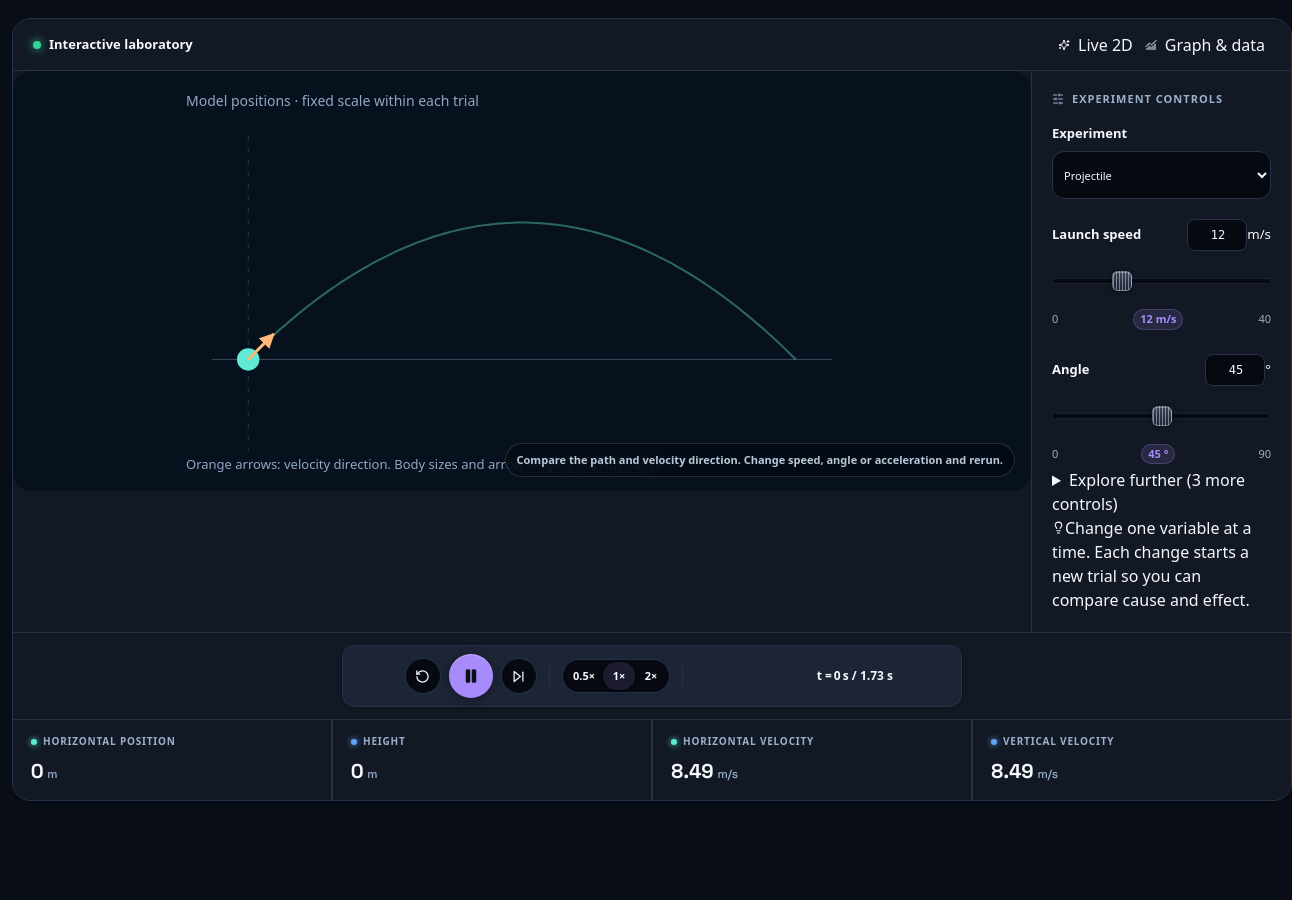
it: Precision Lab & Floating Playback HUD › provides accessible Play/Pause labels on the primary button
Expected: the element showing "0.5× 1× 2× t = 0 s / 1.73 s" is shown, [342,645,962,707]
Click to pause
Click the button named "Pause".
click(471, 676)  # box [449,654,493,698]
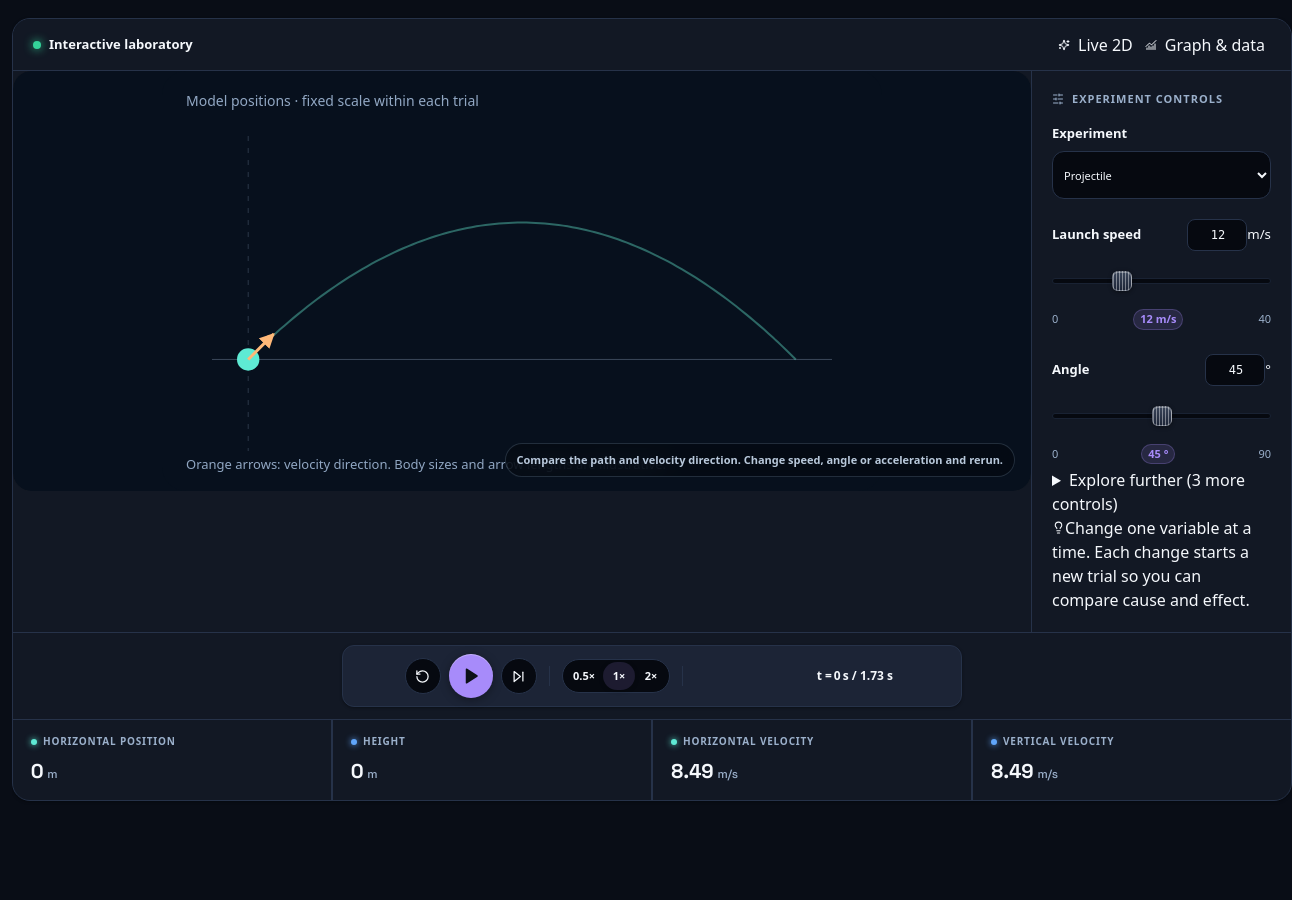
Now the button named "Play" has attribute aria-label="Play"
Click to resume
Click the button named "Play".
click(471, 676)  # box [449,654,493,698]
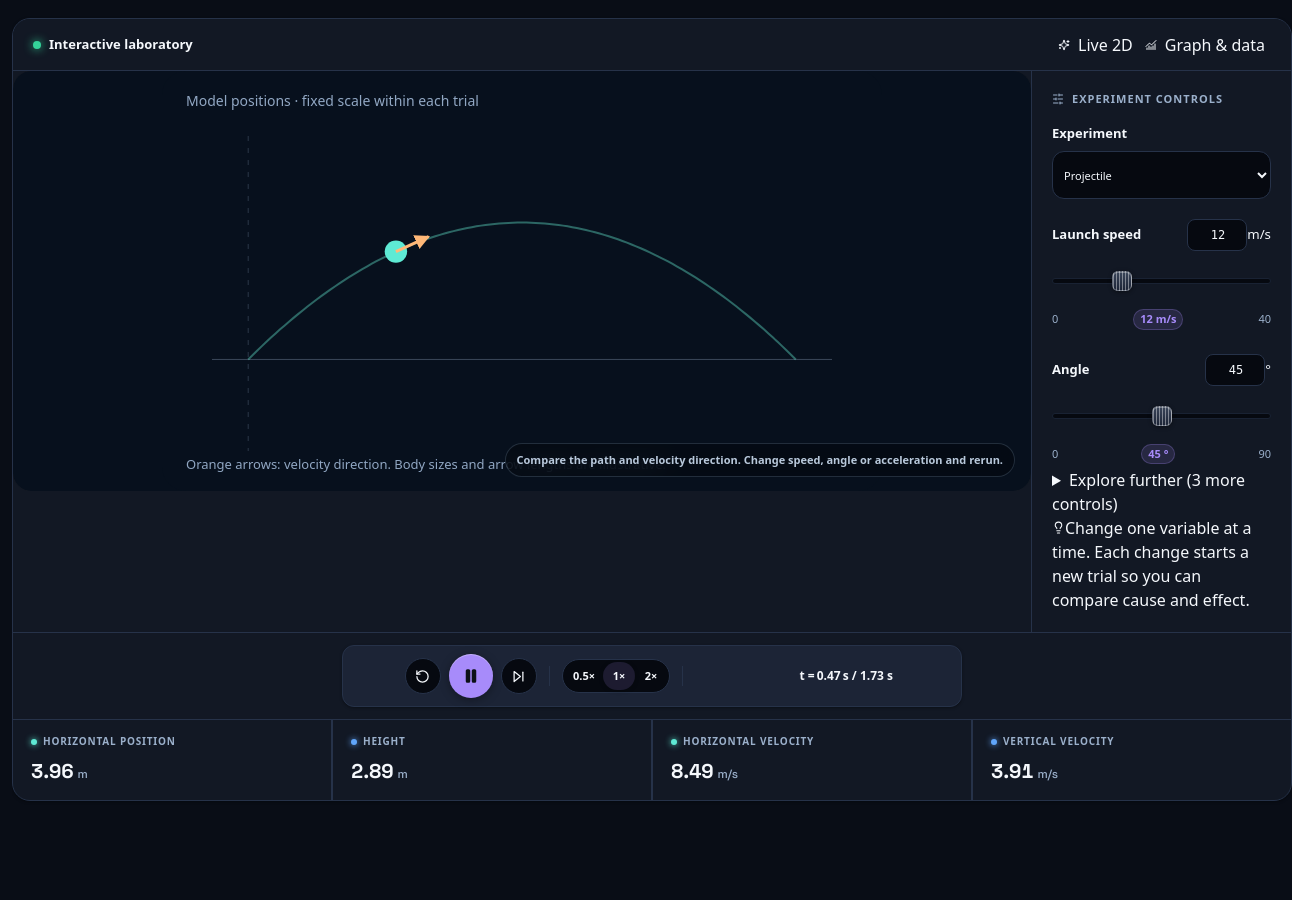
Now the button named "Pause" is shown, box [449,654,493,698]
